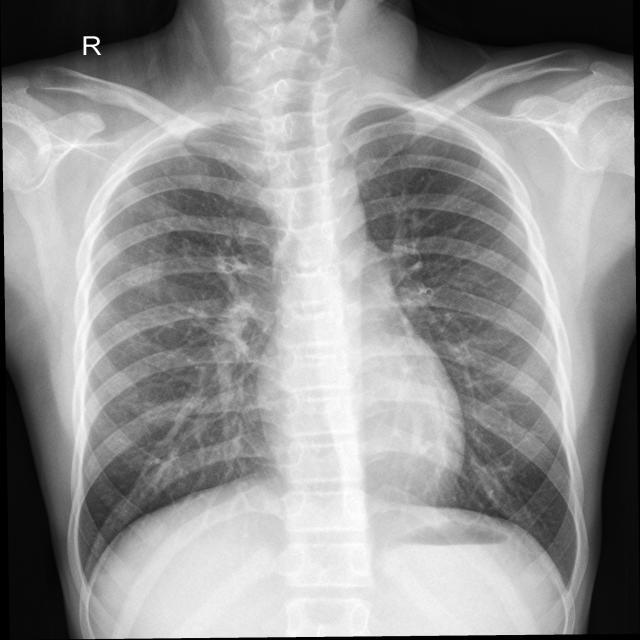no-pneumonia: (358, 117, 579, 578), (78, 129, 280, 572)
